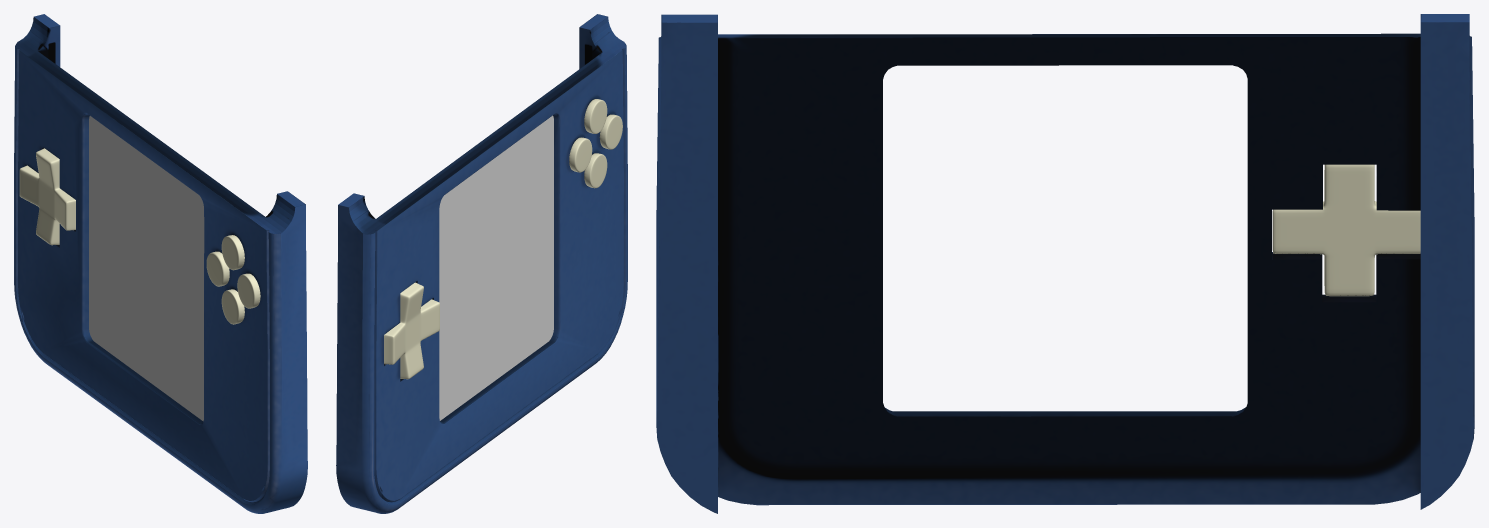
File: gameController.glb
The picture shows the model from 3 angles, left to right: view 1: azimuth 30°, elevation 25°; view 2: azimuth 150°, elevation 25°; view 3: azimuth 270°, elevation 25°; orthographic projection. The views are drawn at different scales.
Visible parts, largest first — view 1: Controller_Shell, Screen_Cutout, DPad, Button_A, Button_X, Button_B, Button_Y; view 2: Controller_Shell, Screen_Cutout, DPad, Button_Y, Button_X, Button_B, Button_A; view 3: Controller_Shell, DPad.
Part boxes in pixels (<box>): Controller_Shell: <box>14,14,307,513</box>; Screen_Cutout: <box>89,116,204,421</box>; DPad: <box>19,148,75,245</box>; Button_A: <box>237,273,260,308</box>; Button_X: <box>221,235,244,270</box>; Button_B: <box>221,289,244,324</box>; Button_Y: <box>206,251,229,286</box>; Controller_Shell: <box>336,14,627,513</box>; Screen_Cutout: <box>439,115,553,420</box>; DPad: <box>384,282,439,379</box>; Button_Y: <box>569,137,592,172</box>; Button_X: <box>584,99,607,133</box>; Button_B: <box>584,153,607,188</box>; Button_A: <box>599,114,622,149</box>; Controller_Shell: <box>656,14,1474,513</box>; DPad: <box>1272,164,1420,296</box>.
Size of the model in its own units: 0.0581 by 0.4273 by 0.6351.
Materials: 2 (1 with a texture image).
